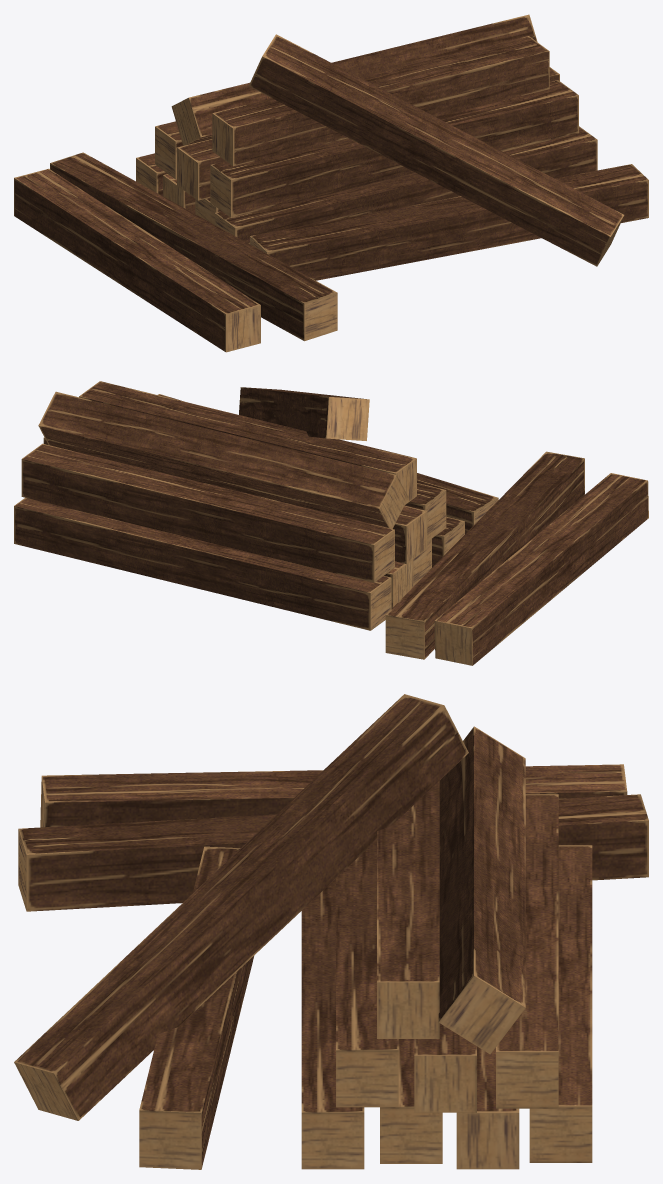
The model's file is WoodPile3.fbx.
The picture shows the model from 3 angles, top to bottom: view 1: azimuth 30°, elevation 25°; view 2: azimuth 150°, elevation 25°; view 3: azimuth 270°, elevation 25°; orthographic projection. The views are drawn at different scales.
Parts seen in each view (by area): view 1: WoodPile; view 2: WoodPile; view 3: WoodPile.
Boxes of the visible parts, bbox=[...] form: WoodPile: bbox=[14, 14, 648, 352]; WoodPile: bbox=[14, 381, 648, 665]; WoodPile: bbox=[14, 694, 648, 1169].
Bounding box in the file's own units: 209 × 74.89 × 160.
